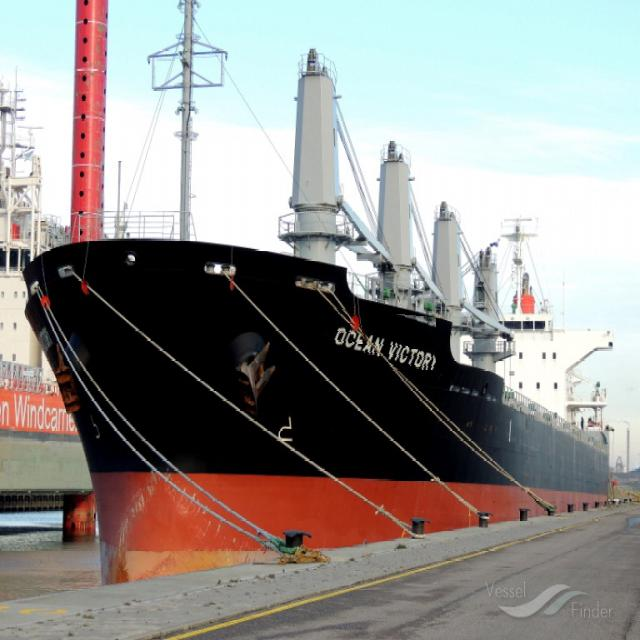OCR: (321, 307, 436, 370)
